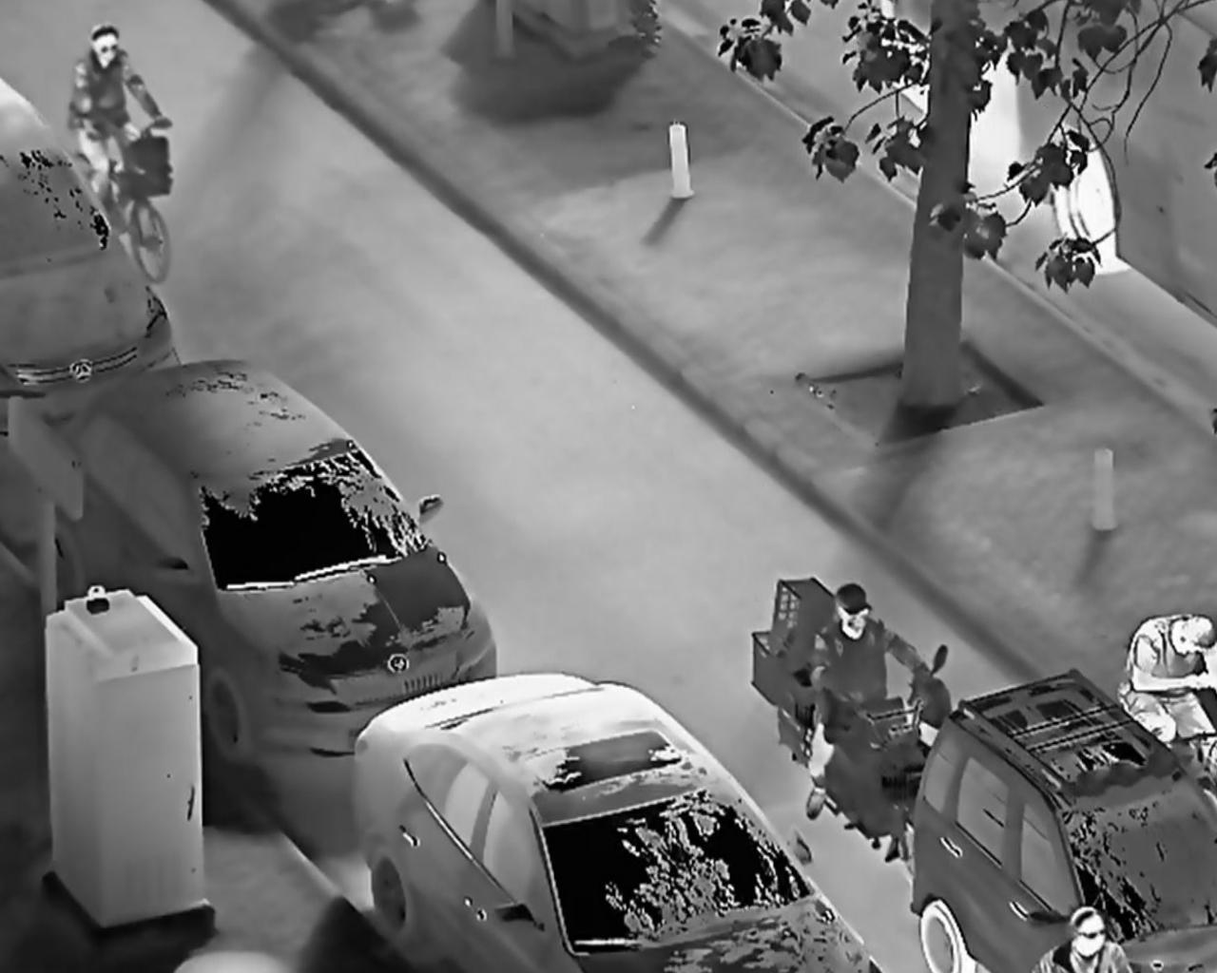person: (801, 581, 928, 823), (1107, 602, 1217, 790), (65, 20, 172, 211), (1028, 894, 1132, 973)
